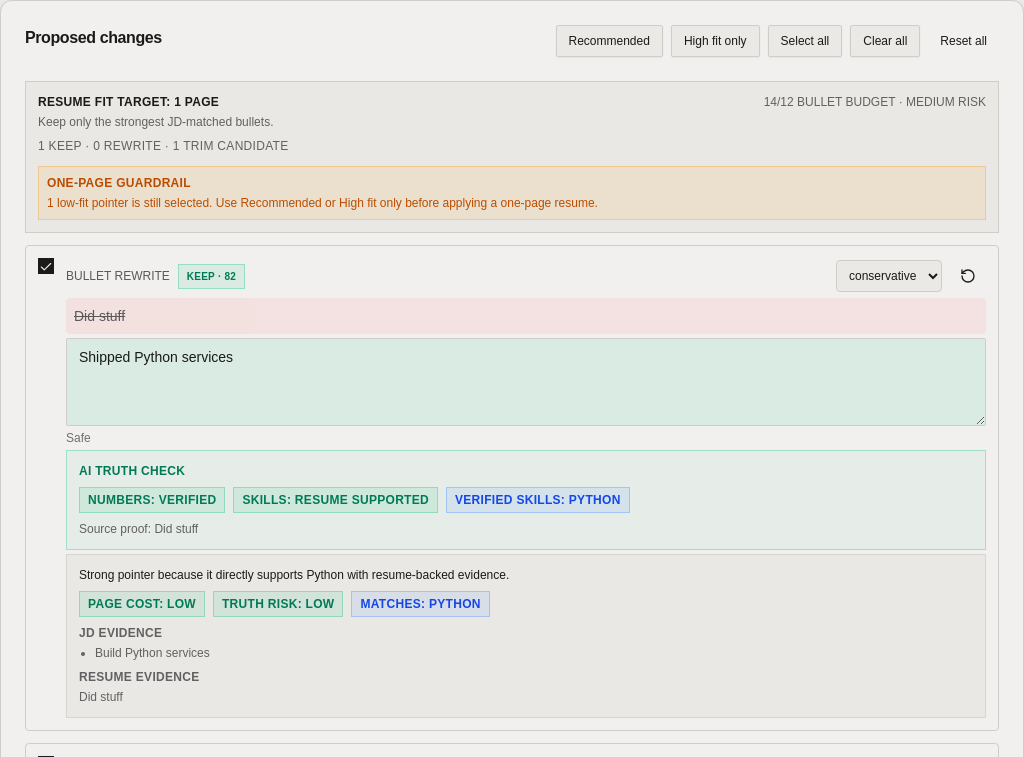
Test: DiffView › selects recommended pointers and trims low-fit changes
Click the button "Recommended" at (609, 41), box [556, 25, 663, 57]
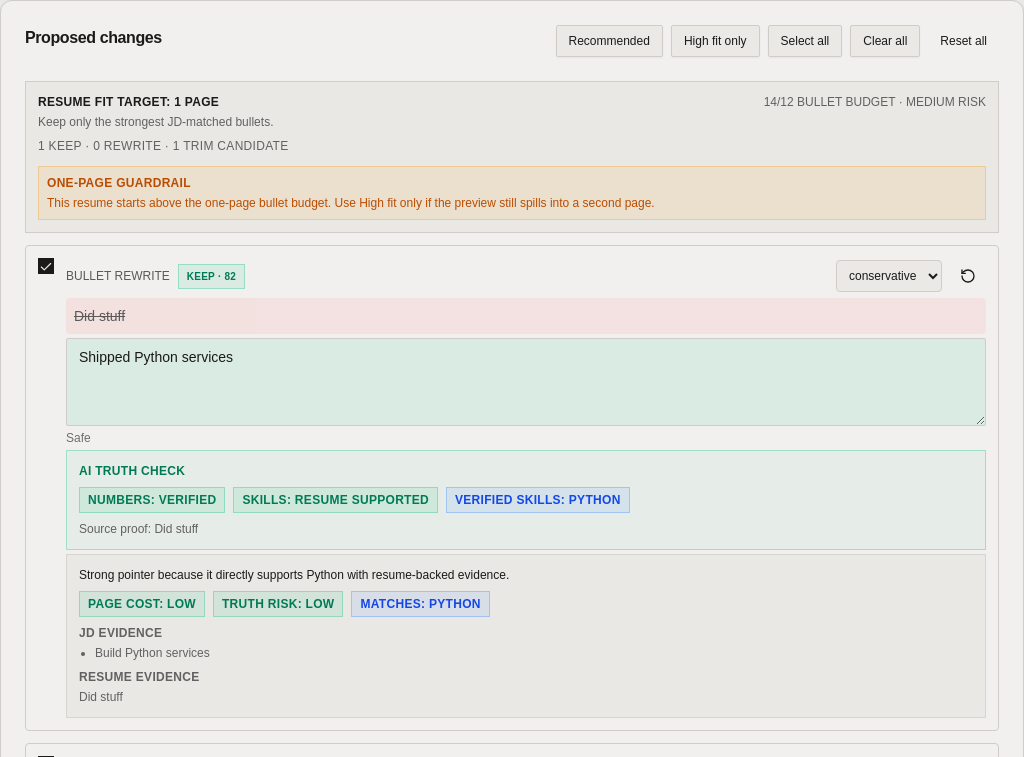
Check: the element with test id "one-page-guardrail" shows "starts above the one-page bullet budget", box [47, 196, 655, 210]
